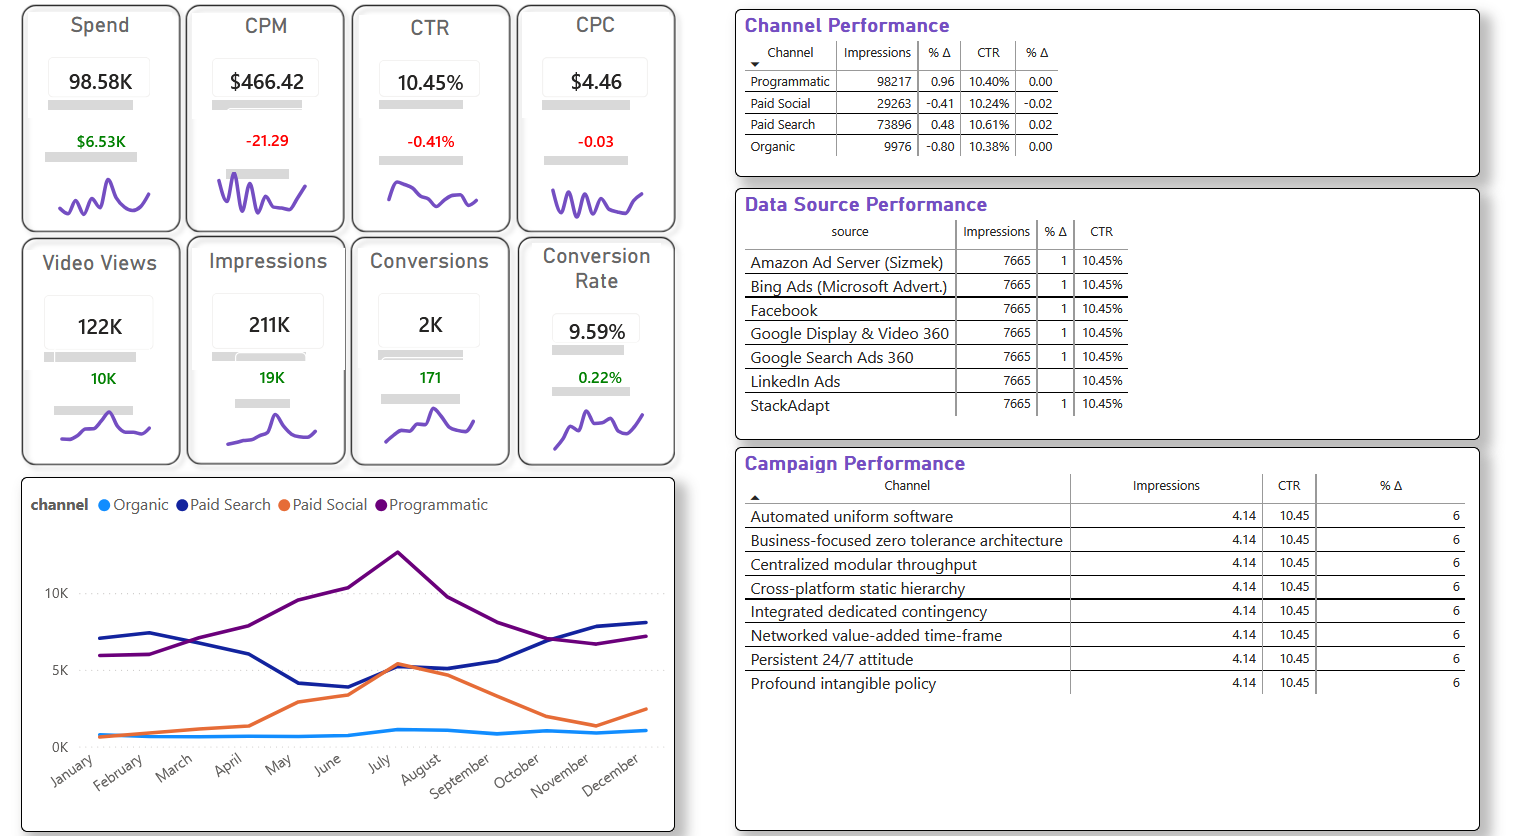

What the dashboard file says about the page in this screenshot:
{"tool":"powerbi","page":{"name":"Page 1","canvas":[1280,720],"ordinal":0},"visuals":[{"type":"group","id":"g1","title":"Sections","box":[0,0,566.7,405],"z":0},{"type":"cardVisual","title":"Spend","fields":{"Data":["Campaign_Performance.Total Spend"]},"box":[14.7,15.3,120.7,89.3],"z":1000},{"type":"cardVisual","title":"CPM","fields":{"Data":["Campaign_Performance.CPM"]},"box":[152,16,124.7,88.7],"z":2000},{"type":"cardVisual","title":"Conversions","fields":{"Data":["Campaign_Performance.Total Conversions"]},"box":[291.1,213.3,120,101.1],"z":3000},{"type":"cardVisual","title":"Conversion Rate","fields":{"Data":["Campaign_Performance.Conversion Rate"]},"box":[437.3,208.7,108.7,101.3],"z":4000},{"type":"lineChart","fields":{"Category":["Daily_Channel_Metrics.date.Variation.Date Hierarchy.Quarter","Daily_Channel_Metrics.date.Variation.Date Hierarchy.Month","Daily_Channel_Metrics.date.Variation.Date Hierarchy.Day"],"Y":["Campaign_Performance.Total Impressions"],"Series":["Daily_Channel_Metrics.channel"]},"box":[8.8,405,548.8,297.5],"z":5000},{"type":"pivotTable","title":"Channel Performance","fields":{"Values":["Campaign_Performance.Total Impressions","Campaign_Performance.Impressions % Change","Campaign_Performance.CTR","Campaign_Performance.CTR % Change"],"Rows":["Daily_Channel_Metrics.channel"]},"box":[607.5,12.5,625,141.2],"z":6000},{"type":"pivotTable","title":"Data Source Performance","fields":{"Rows":["Data_Source_Performance.source"],"Values":["Sum(Campaign_Performance.impressions)","CountNonNull(Data_Source_Performance.ctr_pct_change)","Campaign_Performance.CTR"]},"box":[607.5,162.5,625,211.2],"z":7000},{"type":"pivotTable","title":"Campaign Performance","fields":{"Rows":["Campaign_Performance.campaign"],"Values":["Sum(Data_Source_Performance.impressions_pct_change)","Campaign_Performance.CTR","CountNonNull(Data_Source_Performance.ctr_pct_change)"]},"box":[607.5,380,625,322.5],"z":8000},{"type":"lineChart","title":"Spend Change","fields":{"Y":["Campaign_Performance.Total Spend"],"Category":["Daily_Channel_Metrics.date"]},"box":[11.1,143.3,134.4,46.7],"z":9000},{"type":"cardVisual","fields":{"Data":["Campaign_Performance.CPM Change"]},"box":[162.1,78.8,102.1,83.3],"z":10000},{"type":"lineChart","title":"CPM Change","fields":{"Category":["Daily_Channel_Metrics.date"],"Y":["Campaign_Performance.CPM"]},"box":[144.4,141.1,132.2,47.8],"z":11000},{"type":"cardVisual","fields":{"Data":["Campaign_Performance.Spend Change"]},"box":[12,94,126.7,54],"z":12000},{"type":"cardVisual","title":"CTR","fields":{"Data":["Campaign_Performance.CTR"]},"box":[292,18,119.3,86.7],"z":13000},{"type":"lineChart","title":"CTR change","fields":{"Category":["Daily_Channel_Metrics.date"],"Y":["Campaign_Performance.CTR"]},"box":[286.7,142.2,133.3,46.7],"z":14000},{"type":"cardVisual","fields":{"Data":["Campaign_Performance.CTR Change"]},"box":[291.9,90.4,119.1,60.9],"z":15000},{"type":"cardVisual","title":"CPC","fields":{"Data":["Campaign_Performance.CPC"]},"box":[428.7,15.3,123.3,89.3],"z":16000},{"type":"lineChart","title":"CPC change","fields":{"Category":["Daily_Channel_Metrics.date"],"Y":["Campaign_Performance.CPC"]},"box":[424.4,147.8,134.4,47.8],"z":17000},{"type":"cardVisual","fields":{"Data":["Campaign_Performance.CPC Change"]},"box":[430.7,90.4,119.1,60.9],"z":18000},{"type":"cardVisual","title":"Video Views","fields":{"Data":["Campaign_Performance.Total Video Views"]},"box":[11.1,214.4,126.7,101.1],"z":19000},{"type":"cardVisual","fields":{"Data":["Campaign_Performance.Video Views Change"]},"box":[19.7,278.5,115.5,82.4],"z":20000},{"type":"lineChart","title":"Total Video Views","fields":{"Category":["Daily_Channel_Metrics.date"],"Y":["Campaign_Performance.Total Video Views"]},"box":[12.7,332.7,133.3,47.3],"z":21000},{"type":"cardVisual","title":"Impressions","fields":{"Data":["Campaign_Performance.Total Impressions"]},"box":[152,213.3,128,102],"z":22000},{"type":"lineChart","title":"Total Impresions","fields":{"Category":["Daily_Channel_Metrics.date"],"Y":["Campaign_Performance.Total Impressions"]},"box":[152,342,133.3,47.3],"z":23000},{"type":"cardVisual","fields":{"Data":["Campaign_Performance.Conversions Change"]},"box":[293.7,287.5,115.5,63.6],"z":24000},{"type":"lineChart","title":"Total Impresions","fields":{"Category":["Daily_Channel_Metrics.date"],"Y":["Campaign_Performance.Total Conversions"]},"box":[284.7,336,133.3,48],"z":25000},{"type":"cardVisual","fields":{"Data":["Campaign_Performance.Impressions Change"]},"box":[171,283.9,94,71.6],"z":26000},{"type":"lineChart","title":"Total Impresions","fields":{"Category":["Daily_Channel_Metrics.date"],"Y":["Campaign_Performance.Conversion Rate"]},"box":[426,337.3,133.3,46.7],"z":27000},{"type":"shape","box":[416.2,195,150,210],"z":27500,"group":"g1"},{"type":"shape","box":[415.6,0,151.1,208.9],"z":28000,"group":"g1"},{"type":"cardVisual","fields":{"Data":["Campaign_Performance.Conv Rate Change"]},"box":[437,293.7,113.7,51.9],"z":28000},{"type":"shape","box":[137.8,0,151.1,208.9],"z":28500,"group":"g1"},{"type":"shape","box":[276.7,0,151.1,208.9],"z":29000,"group":"g1"},{"type":"shape","box":[0,0,151.1,208.9],"z":31000,"group":"g1"},{"type":"shape","box":[0,195.6,151.1,208.9],"z":32000,"group":"g1"},{"type":"shape","box":[138.8,193.8,151.2,210],"z":33000,"group":"g1"},{"type":"shape","box":[276.2,195,151.2,210],"z":34000,"group":"g1"}]}

Visuals, with their boxes in screenshot pixels (x1, y1, x2, y2), scaled from the page's 1280x720 canvas onto the 1523x836 screenshot:
"Sections" group: [0,0,674,470]
"Spend" cardVisual: [17,18,161,121]
"CPM" cardVisual: [181,19,329,122]
"Conversions" cardVisual: [346,248,489,365]
"Conversion Rate" cardVisual: [520,242,650,360]
lineChart - Daily_Channel_Metrics.date.Variation.Date Hierarchy.Quarter x Daily_Channel_Metrics.date.Variation.Date Hierarchy.Month: [10,470,663,816]
"Channel Performance" pivotTable: [723,15,1466,178]
"Data Source Performance" pivotTable: [723,189,1466,434]
"Campaign Performance" pivotTable: [723,441,1466,816]
"Spend Change" lineChart: [13,166,173,221]
cardVisual - Campaign_Performance.CPM Change: [193,91,314,188]
"CPM Change" lineChart: [172,164,329,219]
cardVisual - Campaign_Performance.Spend Change: [14,109,165,172]
"CTR" cardVisual: [347,21,489,122]
"CTR change" lineChart: [341,165,500,219]
cardVisual - Campaign_Performance.CTR Change: [347,105,489,176]
"CPC" cardVisual: [510,18,657,121]
"CPC change" lineChart: [505,172,665,227]
cardVisual - Campaign_Performance.CPC Change: [512,105,654,176]
"Video Views" cardVisual: [13,249,164,366]
cardVisual - Campaign_Performance.Video Views Change: [23,323,161,419]
"Total Video Views" lineChart: [15,386,174,441]
"Impressions" cardVisual: [181,248,333,366]
"Total Impresions" lineChart: [181,397,339,452]
cardVisual - Campaign_Performance.Conversions Change: [349,334,487,408]
"Total Impresions" lineChart: [339,390,497,446]
cardVisual - Campaign_Performance.Impressions Change: [203,330,315,413]
"Total Impresions" lineChart: [507,392,665,446]
shape: [495,226,674,470]
shape: [494,0,674,243]
cardVisual - Campaign_Performance.Conv Rate Change: [520,341,655,401]
shape: [164,0,344,243]
shape: [329,0,509,243]
shape: [0,0,180,243]
shape: [0,227,180,470]
shape: [165,225,345,469]
shape: [329,226,509,470]
